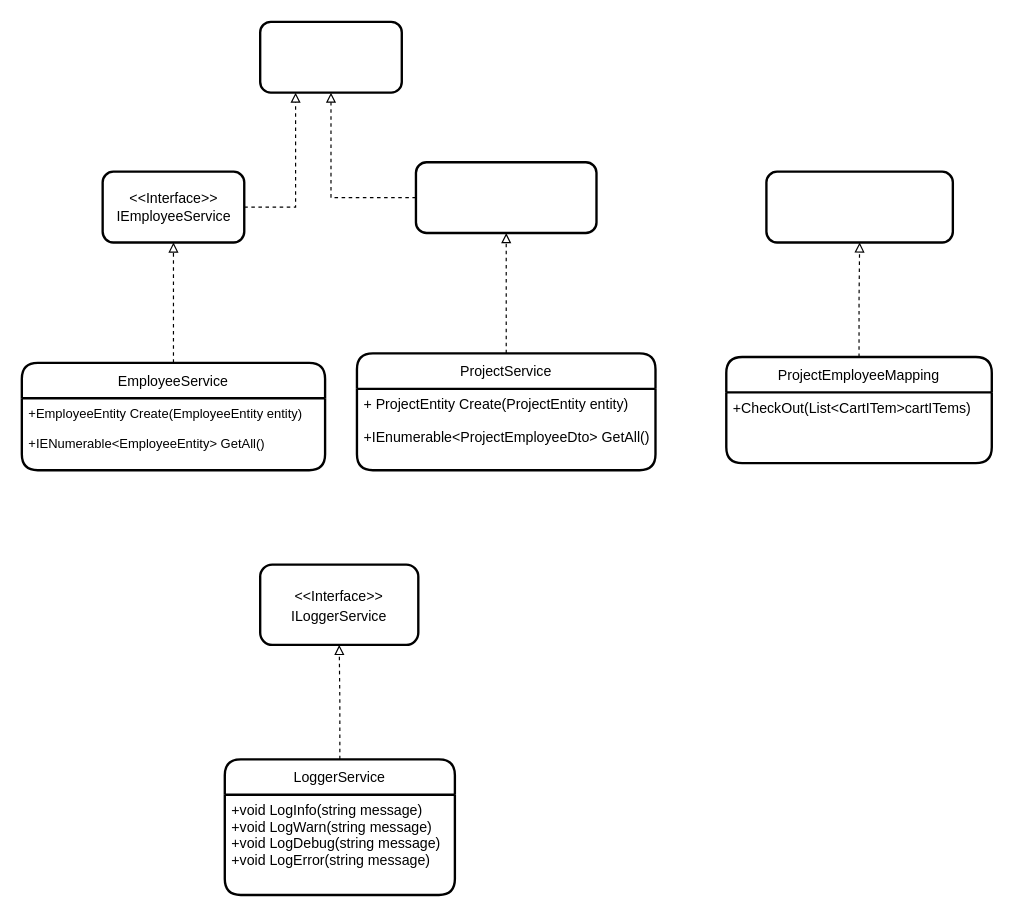
Some shapes in this 1012 by 916 pixel diagram are drawn without their labels. Here are the shapes that lost their labels. From the top down, the centre of each, then its label:
At [330,56]: "<<Interface>> IBaseService".
At [505,197]: "<<Interface>> IProjectServiceService".
At [859,206]: "<<Interface>> IProjectEmployeeMapping".
